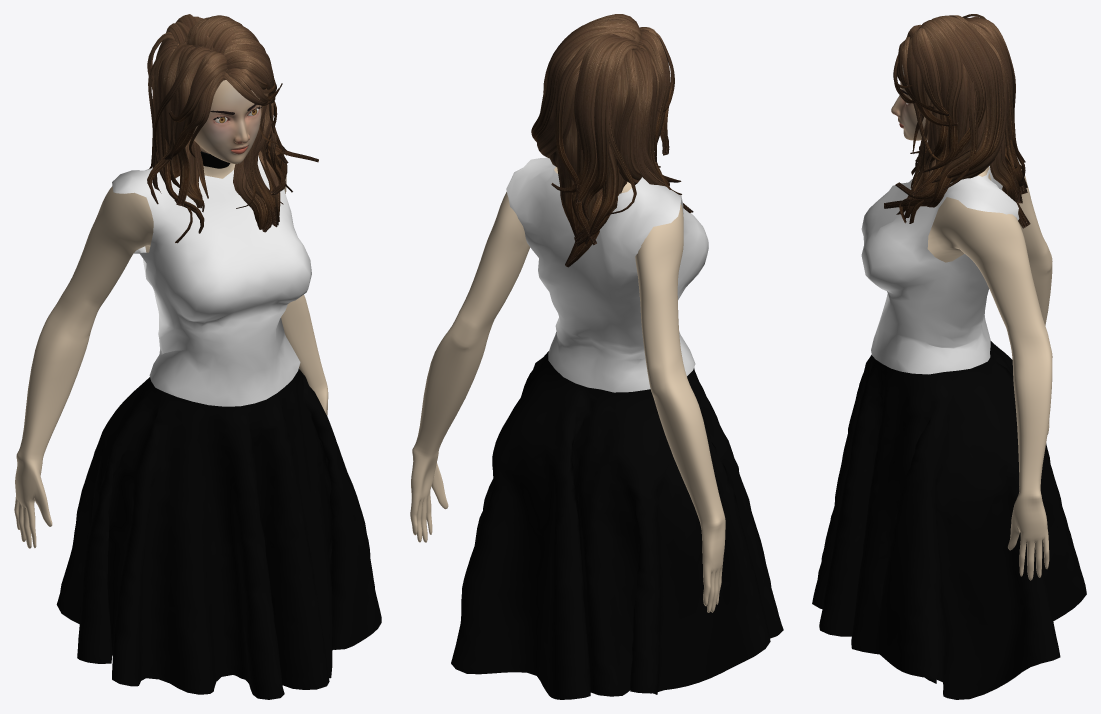
The model's file is HumanInvalid.fbx.
The picture shows the model from 3 angles, left to right: view 1: azimuth 30°, elevation 25°; view 2: azimuth 150°, elevation 25°; view 3: azimuth 270°, elevation 25°; orthographic projection. The views are drawn at different scales.
Parts seen in each view (by area): view 1: dress, Box001, Head, Head1; view 2: dress, Head, Box001; view 3: dress, Box001, Head, Head1.
Part boxes in pixels (x1,y1,x2,y2): dress: (56,155,381,699); Box001: (147,14,318,243); Head: (14,163,328,548); Head1: (193,80,261,163); dress: (451,157,783,699); Head: (410,167,725,612); Box001: (531,14,693,267); dress: (812,157,1086,699); Box001: (884,14,1030,228); Head: (927,161,1052,580); Head1: (891,65,927,140).
Size of the model in its own units: 25.17 by 51.79 by 20.7.
